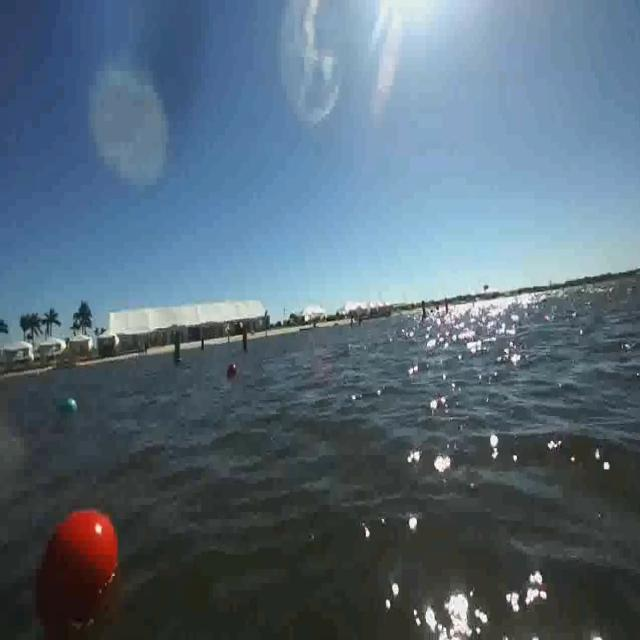black-buoy: (226, 361, 236, 378)
green-buoy: (64, 400, 77, 415)
green-column-buoy: (172, 332, 184, 363)
red-buoy: (34, 501, 125, 606)
